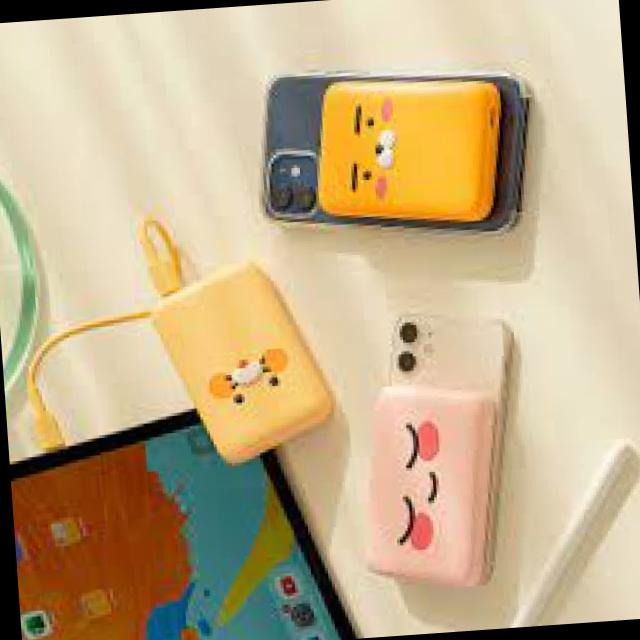power_bank: (149, 256, 338, 464), (349, 379, 518, 587), (308, 70, 514, 232)
